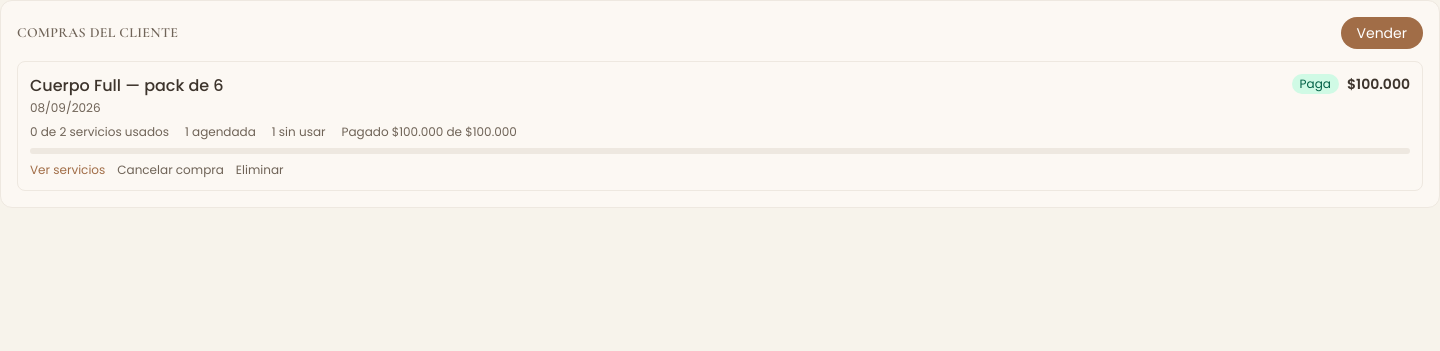
Test: ComprasCard — sesiones y zonas › depilación: zonas del pack, sesión N de M y zonas de cada turno
Click the button "Ver servicios" at x=68, y=170, box [30,162,105,178]
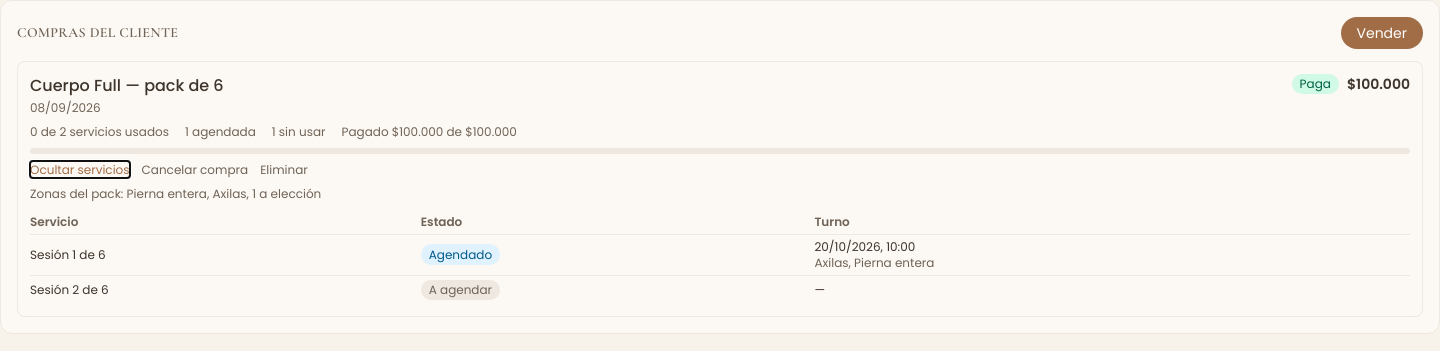
Check: the text "Zonas del pack: Pierna entera, Axilas, 1 a elección" is shown, box [30,185,321,202]
Check: the text "Sesión 1 de 6" is shown, box [30,234,421,276]
Check: the text "Sesión 2 de 6" is shown, box [30,276,421,304]
